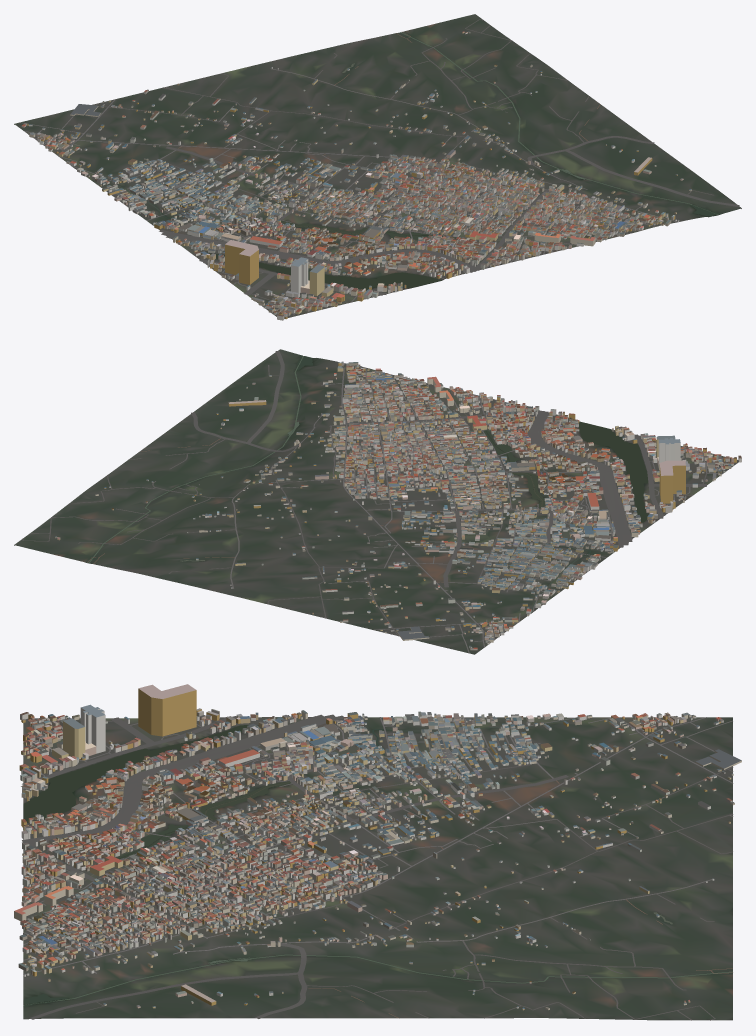
3 views of the same model, one above another, from view 1: azimuth 30°, elevation 25°; view 2: azimuth 150°, elevation 25°; view 3: azimuth 270°, elevation 25° (orthographic). The views are drawn at different scales.
Visible parts, largest first — view 1: ground, buildings, roads, water; view 2: ground, buildings, roads, water; view 3: ground, buildings, roads, water.
Boxes of the visible parts, x1,y1,x2,y2 form: ground: (14, 14, 741, 318); buildings: (21, 31, 691, 320); roads: (19, 19, 739, 315); water: (71, 32, 721, 290); ground: (14, 349, 738, 654); buildings: (55, 361, 741, 650); roads: (22, 351, 734, 653); water: (88, 354, 648, 612); ground: (23, 717, 732, 1020); buildings: (14, 684, 741, 1010); roads: (21, 714, 733, 1020); water: (23, 718, 732, 1007).
Size of the model in its own units: 1415 by 92.65 by 1438.
